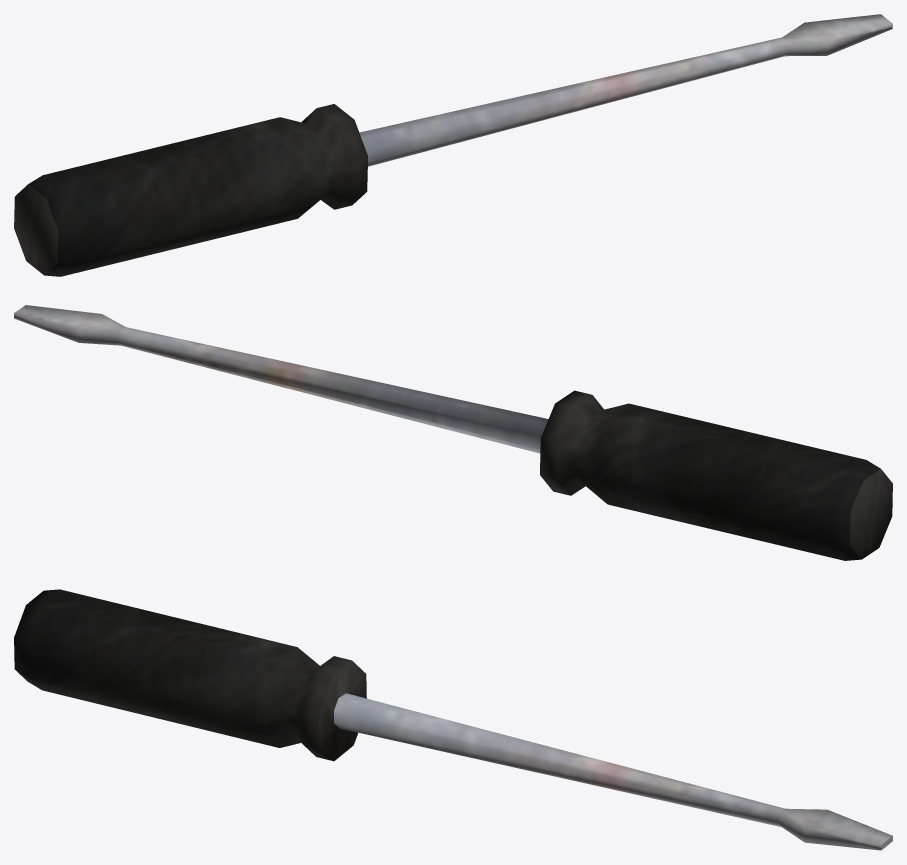
Rendered from M_Home_Garden_Screwdriver.fbx.
3 renders of one model, top to bottom at view 1: azimuth 30°, elevation 25°; view 2: azimuth 150°, elevation 25°; view 3: azimuth 330°, elevation 25°, orthographic.
Parts seen in each view (by area): view 1: M_Home_Garden_Screwdriver; view 2: M_Home_Garden_Screwdriver; view 3: M_Home_Garden_Screwdriver.
Boxes of the visible parts, <box> form: M_Home_Garden_Screwdriver: <box>14,14,892,276</box>; M_Home_Garden_Screwdriver: <box>14,305,892,560</box>; M_Home_Garden_Screwdriver: <box>14,589,892,850</box>.
Size of the model in its own units: 41.09 by 4.11 by 4.16.
